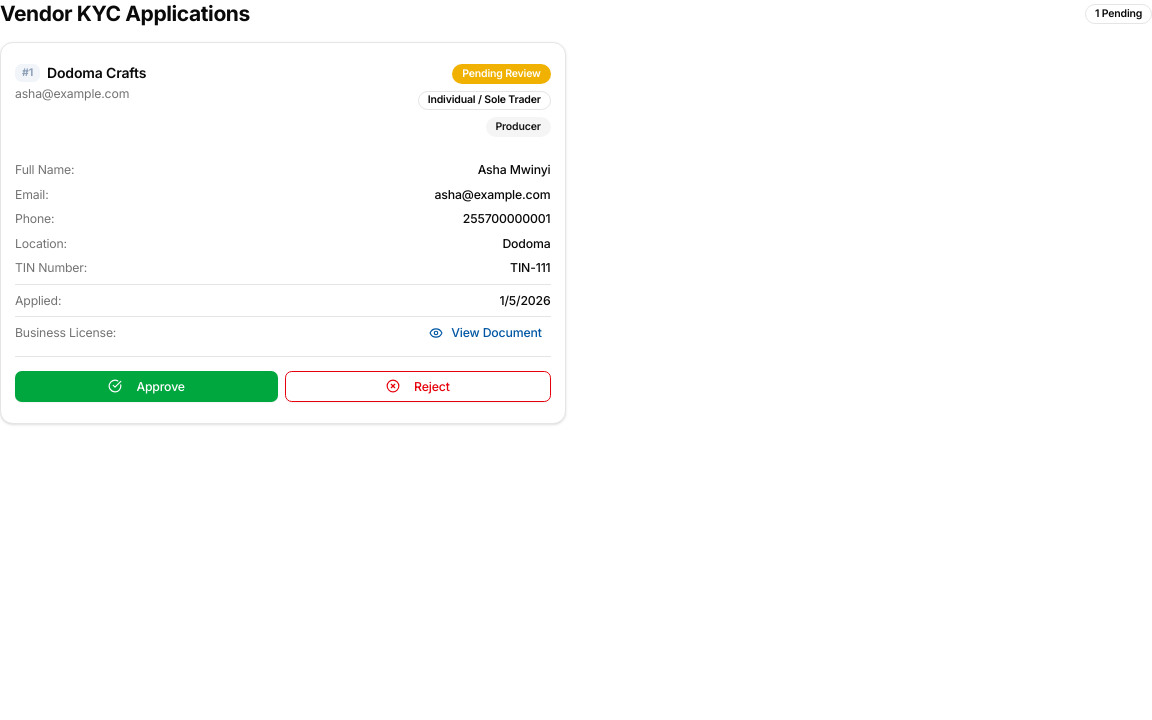
KYCApprovalTab › rejecting › opens the rejection dialog for the clicked vendor
Click the button "Reject" at (418, 386), box [285,370,551,402]
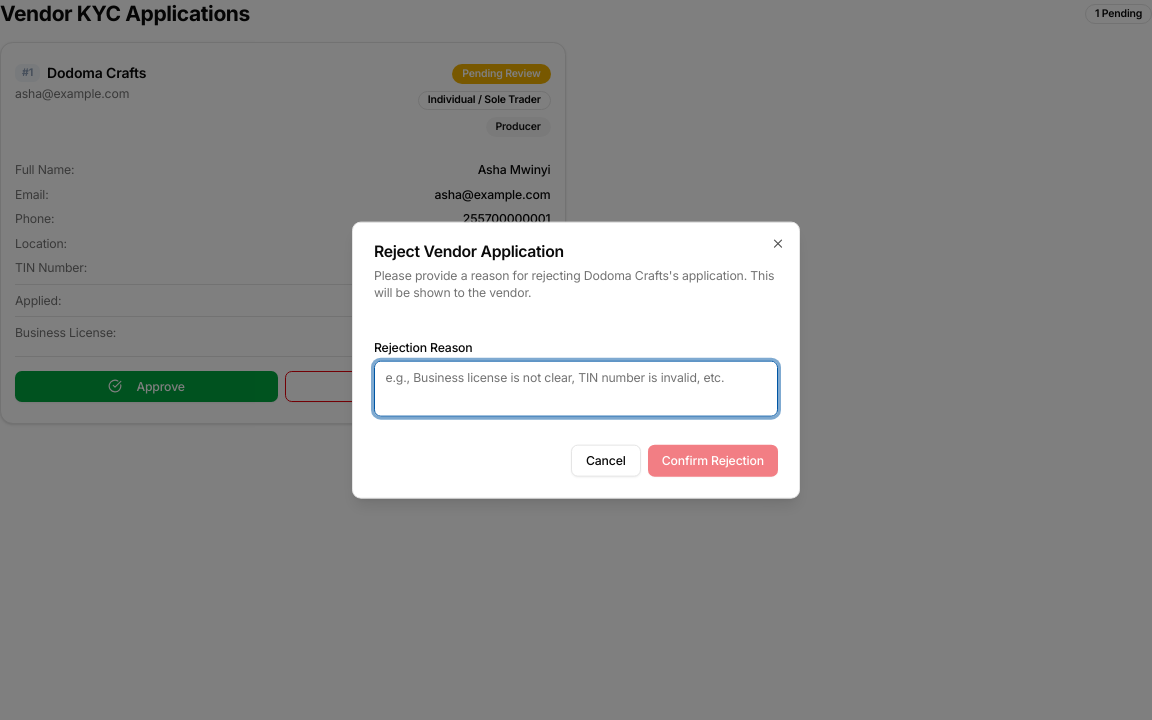
Expected: the text "Dodoma Crafts's application" is shown, [374,266,778,301]
